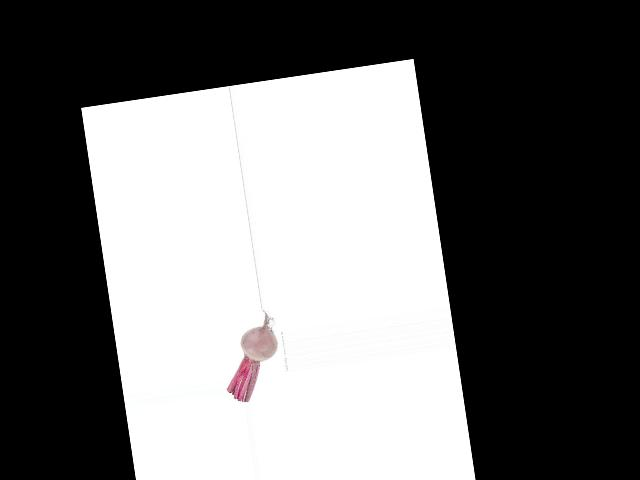beet: (216, 308, 285, 405)
